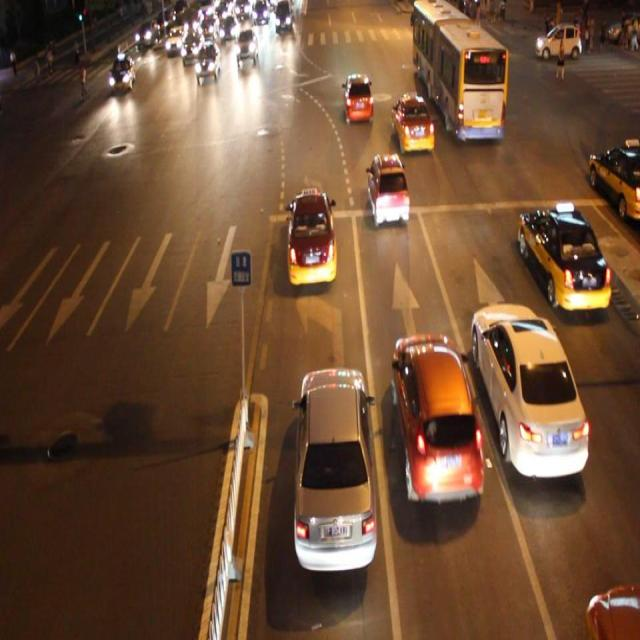car: (471, 302, 587, 479), (292, 366, 377, 574), (390, 332, 483, 504), (516, 201, 608, 315), (286, 188, 336, 286), (586, 136, 640, 222), (583, 580, 639, 640), (366, 152, 409, 226), (391, 94, 434, 154), (342, 73, 373, 124), (110, 54, 134, 92), (195, 44, 219, 79), (235, 29, 257, 62), (180, 30, 202, 60)
van: (409, 1, 508, 145)
